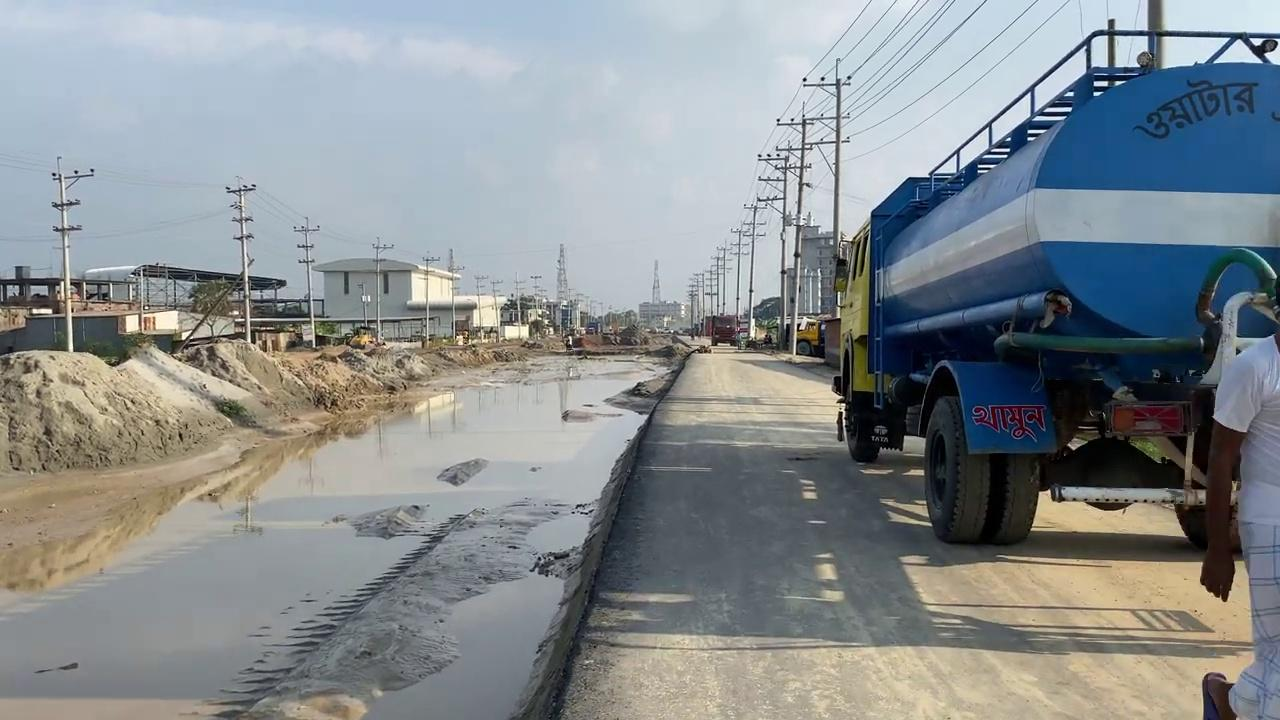Curb: (511, 340, 702, 717)
Pole: (50, 155, 93, 351), (225, 176, 256, 343), (293, 216, 319, 348)
Rickshaw: (554, 341, 1256, 718)
Sidewalk: (1, 348, 677, 718)
Tree: (829, 28, 1278, 550), (767, 315, 825, 357), (343, 281, 379, 348), (564, 322, 640, 353), (794, 314, 829, 357), (703, 313, 742, 346), (343, 325, 377, 348)
